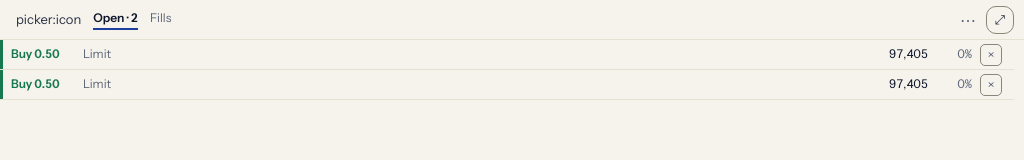
OrdersPanel › ⋯ Cancel all asks (the strip confirms); it never cancels directly
Click the button named "More order actions": (968, 20) [954,6,982,34]
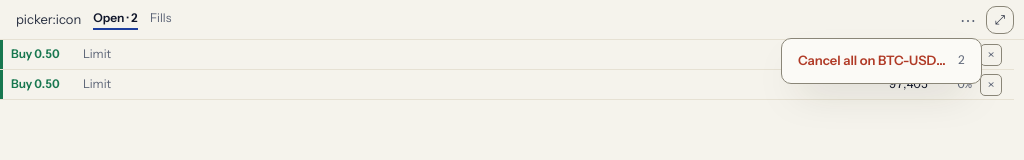
Check: the menu item "Cancel all on BTC-USD… 2" is shown
Click the menu item "Cancel all on BTC-USD… 2": (881, 60) [788,44,975,76]
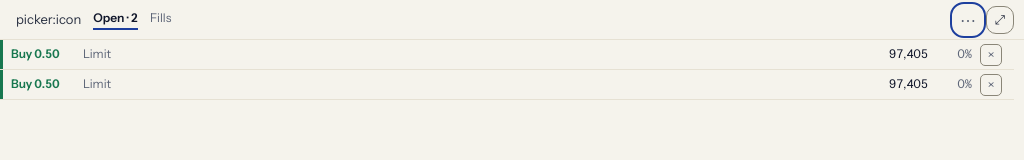
Check: the menu is gone
